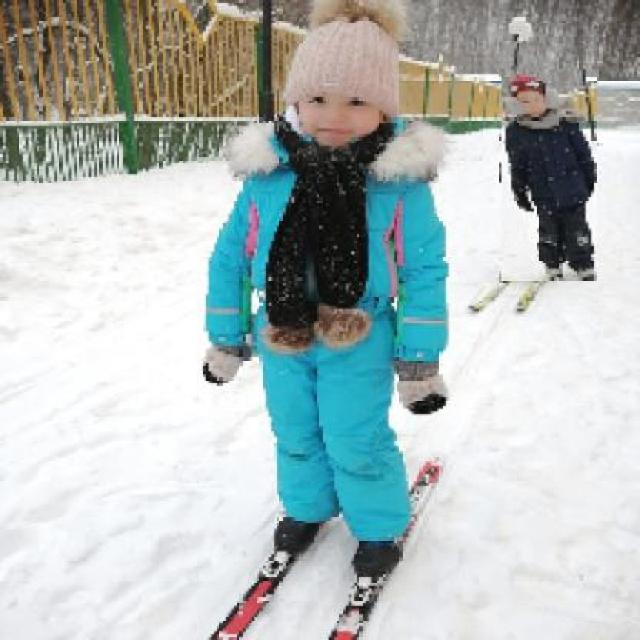child: (200, 1, 449, 576), (500, 69, 597, 282)
